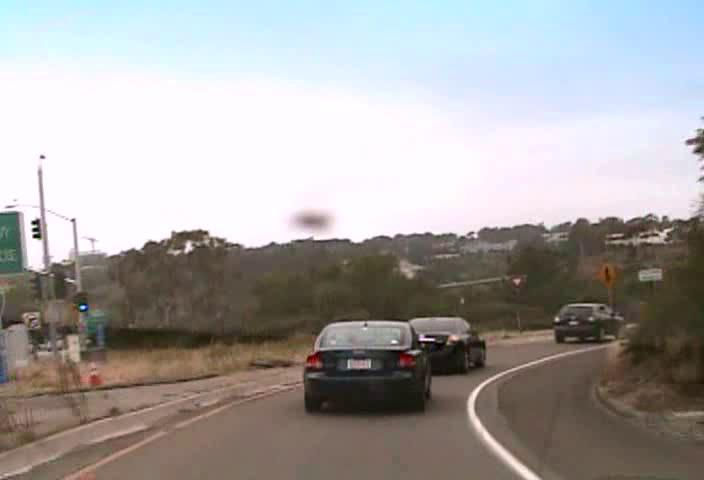merge: (594, 261, 619, 290)
